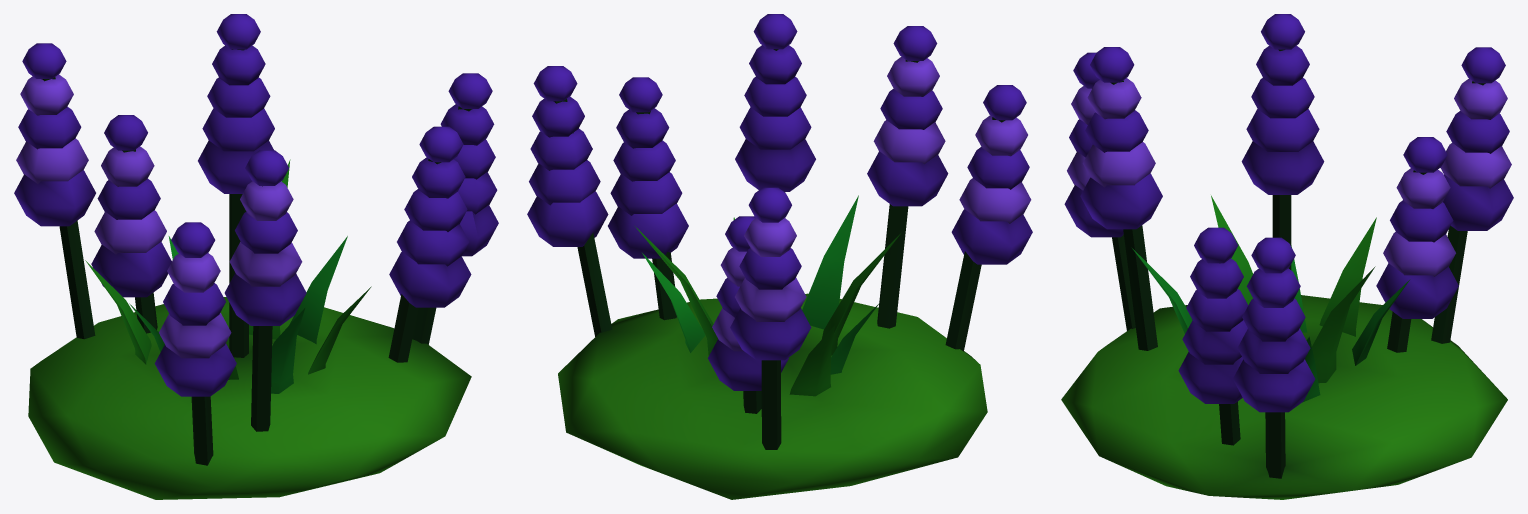
The model's file is Flowers_Purple.fbx.
3 views of the same model, side by side, from view 1: azimuth 30°, elevation 25°; view 2: azimuth 150°, elevation 25°; view 3: azimuth 270°, elevation 25° (orthographic).
Parts seen in each view (by area): view 1: Flowers_Purple; view 2: Flowers_Purple; view 3: Flowers_Purple.
Part boxes in pixels (x1,y1,x2,y2): Flowers_Purple: [14, 14, 498, 499]; Flowers_Purple: [527, 14, 1032, 499]; Flowers_Purple: [1061, 14, 1513, 499].
Bounding box in the file's own units: 0.6278 × 0.592 × 0.5692.
